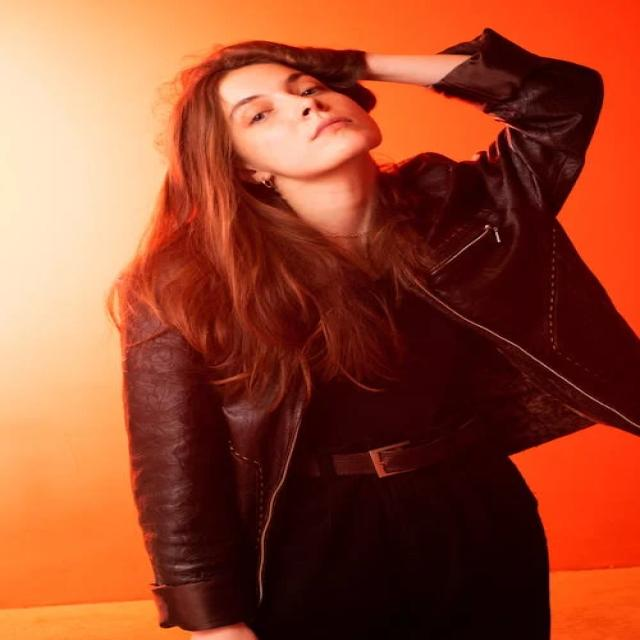Edited images: (89, 23, 640, 639)
